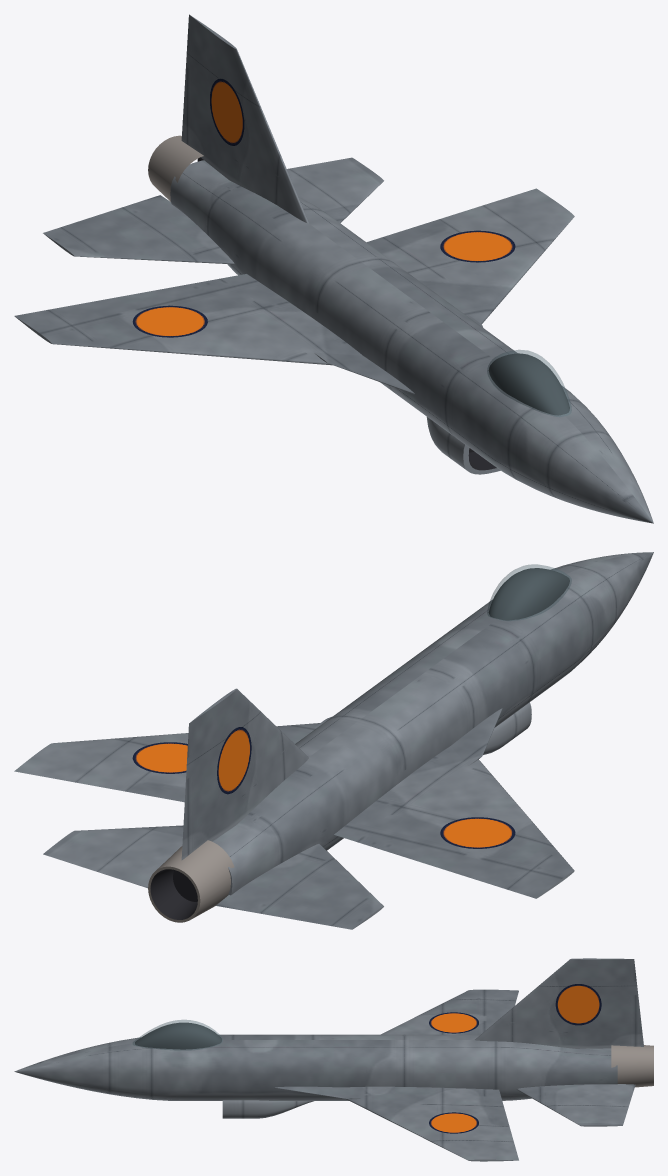
The model's file is 57_F-16MLU.glb.
3 views of the same model, one above another, from view 1: azimuth 30°, elevation 25°; view 2: azimuth 150°, elevation 25°; view 3: azimuth 270°, elevation 25° (orthographic). The views are drawn at different scales.
Visible parts, largest first — view 1: Fuselage, Wing0_R, Wing0_L, Fin3, Htail2_R, Htail2_L, Canopy, Cockpit, Decal_Wing_U_L, Decal_Wing_U_R, Nozzle, Decal_Fin_a (+2 smaller); view 2: Fuselage, Wing0_R, Fin3, Htail2_R, Wing0_L, Htail2_L, Nozzle, Canopy, Cockpit, Decal_Wing_U_R, Decal_Fin_a, Decal_Wing_U_L (+2 smaller); view 3: Fuselage, Fin3, Wing0_L, Htail2_L, Wing0_R, Canopy, Cockpit, Nozzle, Decal_Fin_b, Intake, Decal_Wing_U_L, Decal_Wing_U_R (+1 smaller).
Boxes of the visible parts, bbox=[...] form: Fuselage: bbox=[170, 160, 653, 523]; Wing0_R: bbox=[14, 274, 362, 365]; Wing0_L: bbox=[366, 188, 574, 324]; Fin3: bbox=[181, 14, 308, 223]; Htail2_R: bbox=[43, 195, 234, 264]; Htail2_L: bbox=[287, 157, 383, 223]; Canopy: bbox=[487, 350, 571, 416]; Cockpit: bbox=[488, 353, 569, 415]; Decal_Wing_U_L: bbox=[440, 230, 515, 262]; Decal_Wing_U_R: bbox=[132, 305, 207, 337]; Nozzle: bbox=[148, 135, 203, 201]; Decal_Fin_a: bbox=[210, 78, 244, 145]; Fuselage: bbox=[212, 552, 653, 895]; Wing0_R: bbox=[334, 746, 574, 898]; Fin3: bbox=[181, 688, 308, 860]; Htail2_R: bbox=[216, 844, 383, 929]; Wing0_L: bbox=[14, 723, 319, 802]; Htail2_L: bbox=[43, 825, 183, 888]; Nozzle: bbox=[148, 840, 234, 922]; Canopy: bbox=[487, 564, 571, 620]; Cockpit: bbox=[488, 568, 569, 620]; Decal_Wing_U_R: bbox=[440, 817, 515, 848]; Decal_Fin_a: bbox=[217, 727, 251, 794]; Decal_Wing_U_L: bbox=[132, 742, 187, 773]; Fuselage: bbox=[14, 1034, 617, 1100]; Fin3: bbox=[475, 958, 643, 1048]; Wing0_L: bbox=[344, 1086, 518, 1161]; Htail2_L: bbox=[517, 1084, 635, 1126]; Wing0_R: bbox=[381, 989, 518, 1034]; Canopy: bbox=[133, 1020, 222, 1050]; Cockpit: bbox=[135, 1022, 221, 1049]; Nozzle: bbox=[611, 1045, 653, 1087]; Decal_Fin_b: bbox=[555, 984, 601, 1025]; Intake: bbox=[222, 1100, 313, 1118]; Decal_Wing_U_L: bbox=[429, 1112, 478, 1133]; Decal_Wing_U_R: bbox=[429, 1012, 478, 1033].
Bounding box in the file's own units: 9.45 × 4 × 15.03.
Materials: 6 (2 with a texture image).
